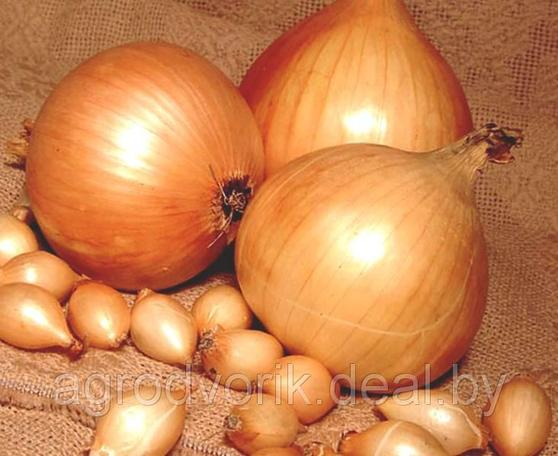onion: (242, 112, 492, 381), (18, 39, 271, 295)
